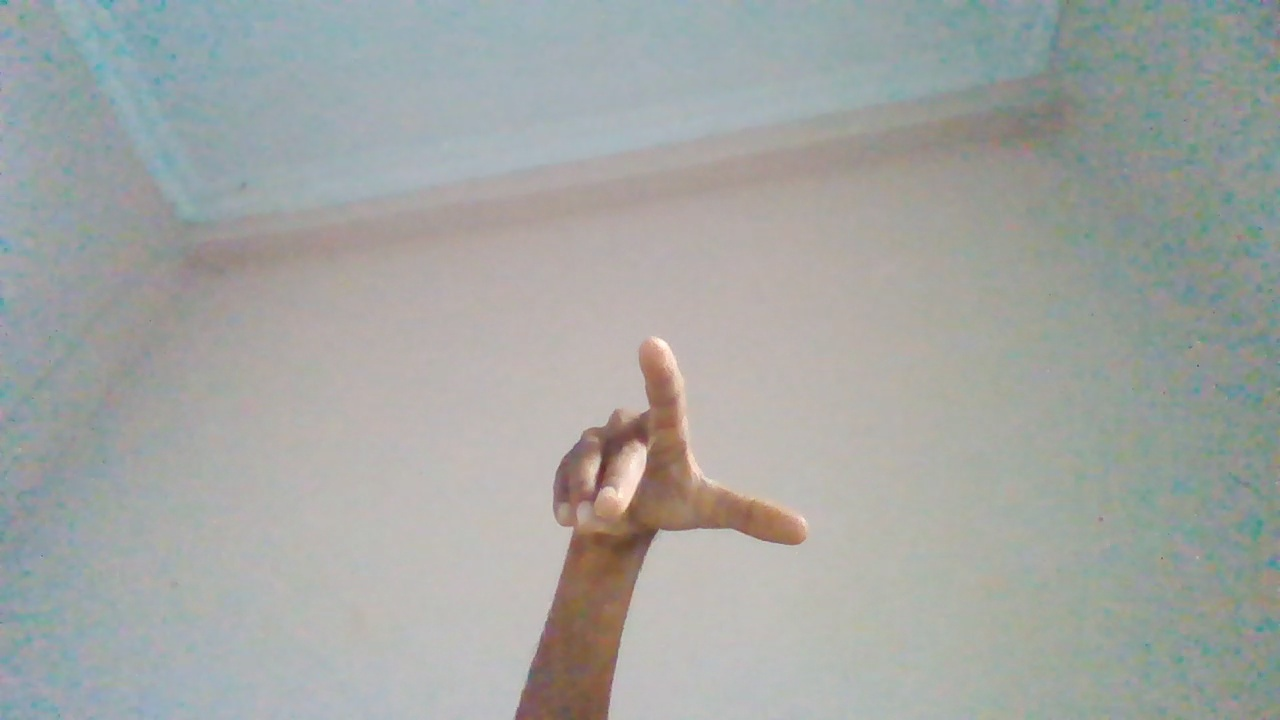ke: (552, 333, 812, 704)
